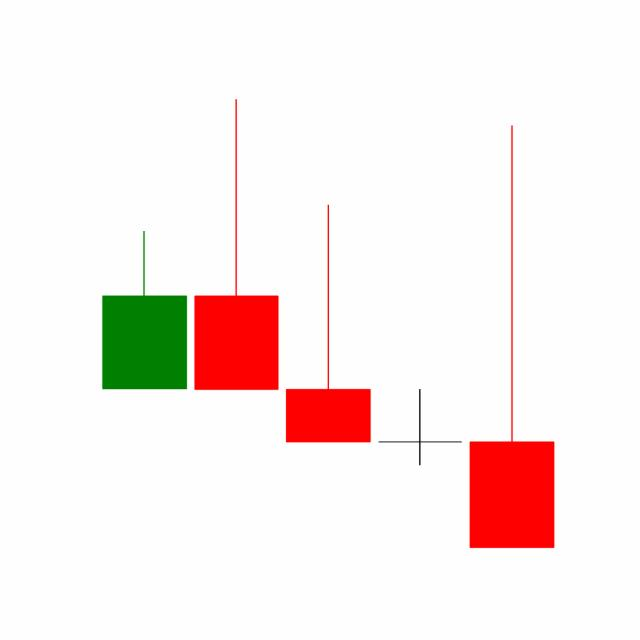Spinning Top: (373, 388, 467, 467)
